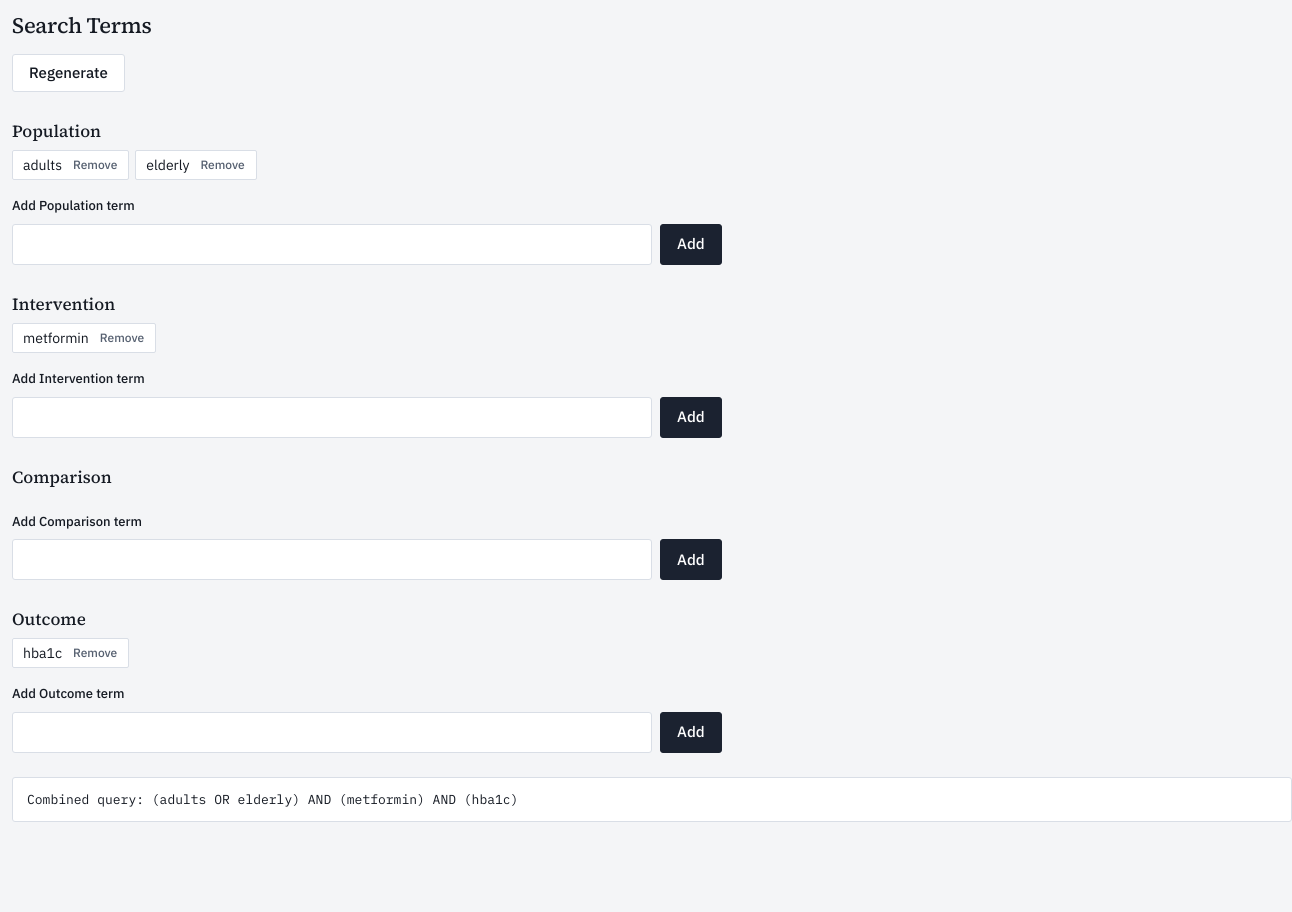
Test: SearchTermsPanel › regenerates and replaces the currently displayed terms
Expected: the list item "adults" is shown, [23,156,62,174]
Click the button "Regenerate".
click(68, 73)  # box [12,54,125,92]
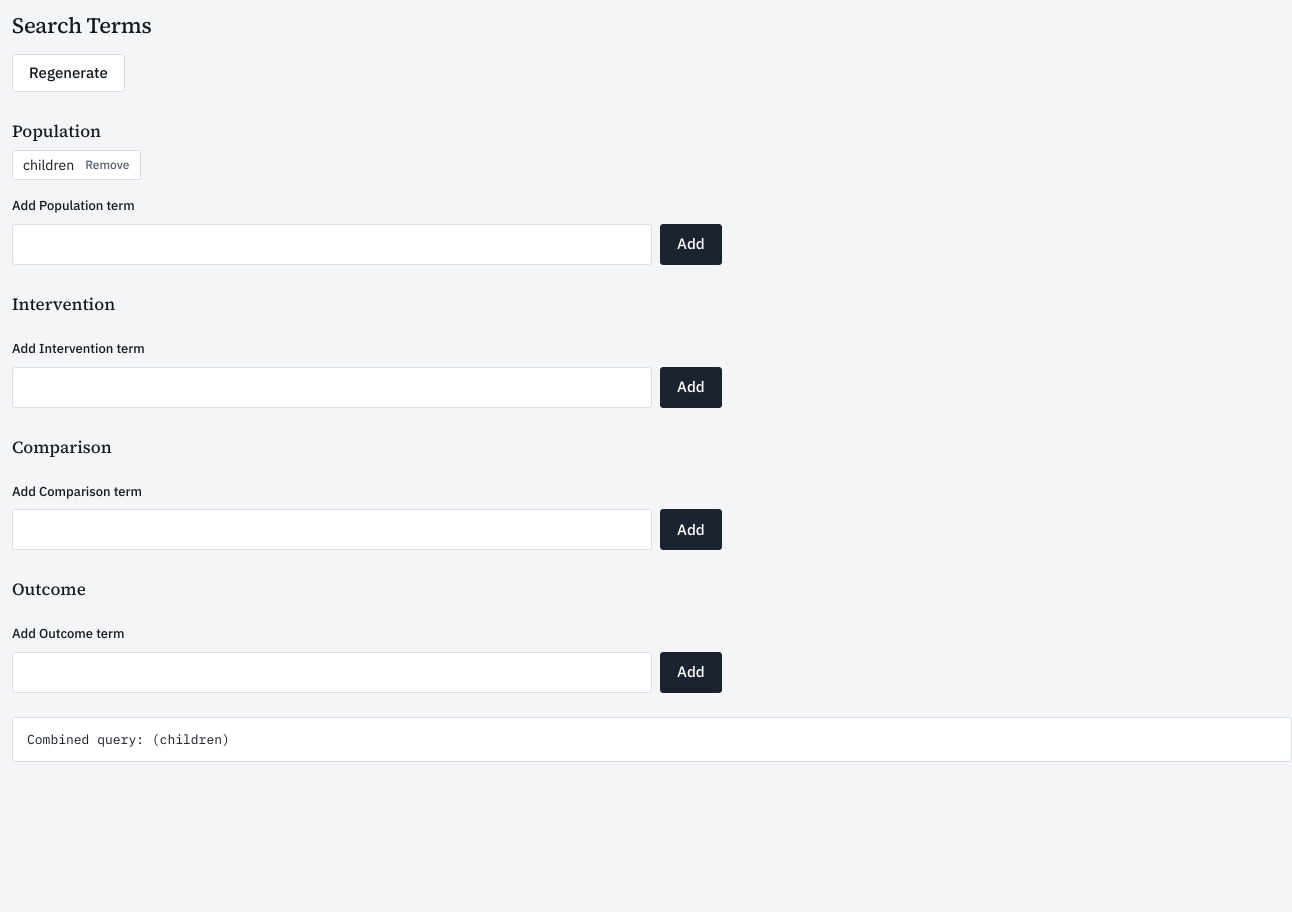
Result: the list item "children" is shown at [23,156,74,174]
Result: the list item "adults" is gone
Result: the list item "metformin" is gone
